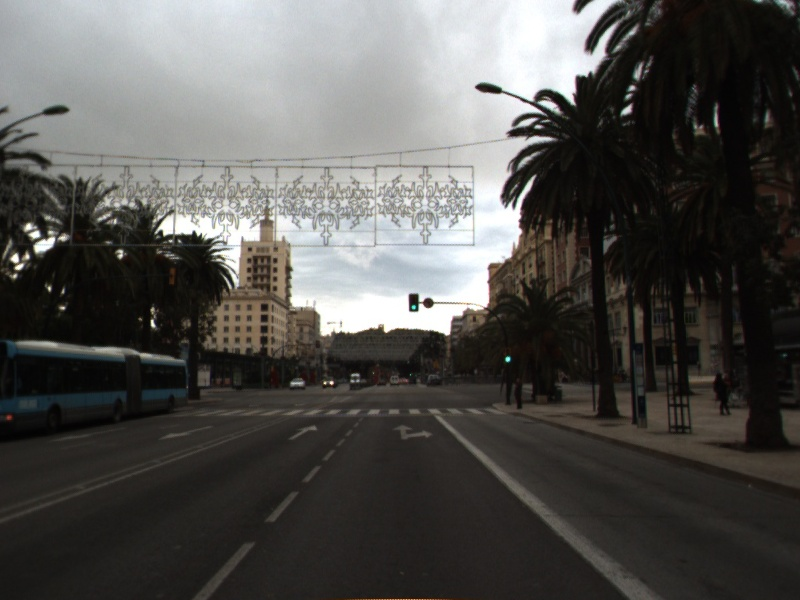STRAIGHT: (285, 423, 320, 442)
STRAIGHT_RIGHT: (390, 422, 436, 442)
